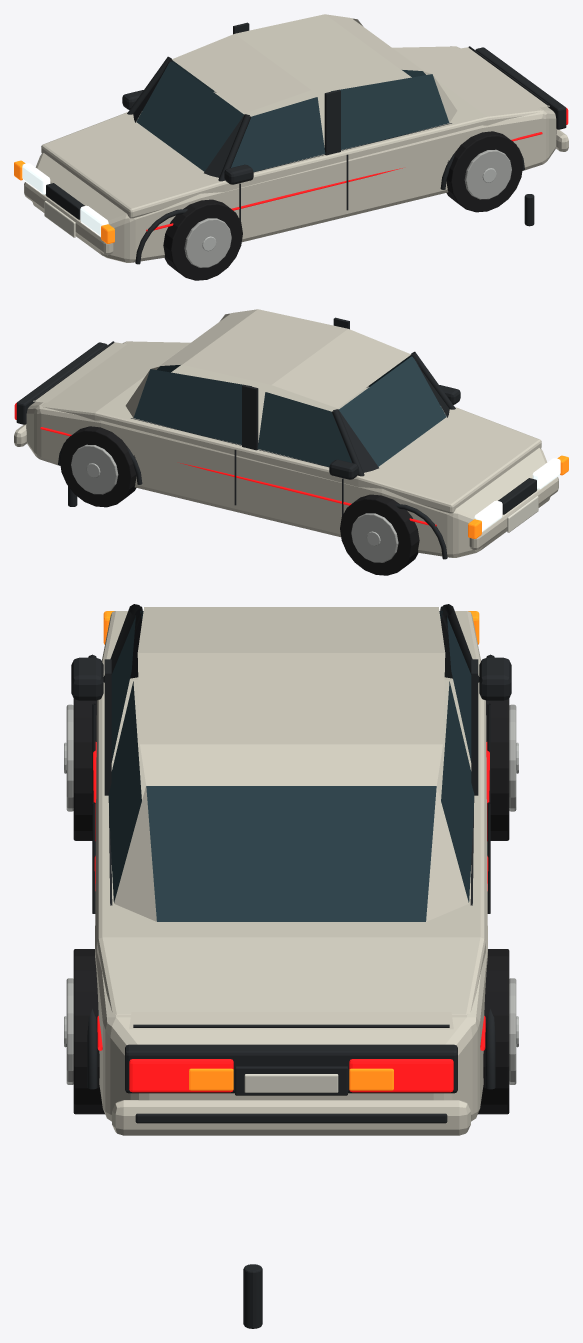
The model's file is commodore.glb.
3 renders of one model, top to bottom at view 1: azimuth 30°, elevation 25°; view 2: azimuth 150°, elevation 25°; view 3: azimuth 270°, elevation 25°, orthographic. The views are drawn at different scales.
Visible parts, largest first — view 1: commodore_belt, commodore_body, commodore_cabin, commodore_windscreen, commodore_rear_side_glass_-1, commodore_front_side_glass_-1, commodore_front_tyre_-1, commodore_rear_tyre_-1, commodore_rear_hub_-1, commodore_front_hub_-1, commodore, commodore_tail_panel (+13 smaller); view 2: commodore, commodore_belt, commodore_body, commodore_cabin, commodore_windscreen, commodore_tail_panel, commodore_front_bumper, commodore_boot_lid, commodore_front_grille, commodore_front_plate, commodore_headlamp_left, commodore_headlamp_right (+1 smaller); view 3: commodore_cabin, commodore_belt, commodore_rear_screen, commodore, commodore_body, commodore_rear_bumper, commodore_tail_panel, commodore_boot_lid, commodore_rear_side_glass_-1, commodore_rear_tyre_-1, commodore_rear_bumper_insert, commodore_c_pillar_-1 (+12 smaller).
Part boxes in pixels (box(x1,y1,x2,y2)): commodore_belt: box(41, 46, 540, 218); commodore_body: box(32, 46, 556, 262); commodore_cabin: box(172, 14, 423, 113); commodore_windscreen: box(136, 61, 243, 171); commodore_rear_side_glass_-1: box(331, 74, 449, 149); commodore_front_side_glass_-1: box(231, 97, 325, 171); commodore_front_tyre_-1: box(163, 199, 242, 280); commodore_rear_tyre_-1: box(446, 131, 523, 212); commodore_rear_hub_-1: box(464, 149, 511, 199); commodore_front_hub_-1: box(184, 218, 231, 267); commodore: box(122, 18, 363, 122); commodore_tail_panel: box(475, 47, 566, 129); commodore: box(40, 366, 447, 575); commodore_belt: box(42, 341, 541, 513); commodore_body: box(26, 341, 550, 557); commodore_cabin: box(159, 309, 410, 408); commodore_windscreen: box(339, 356, 446, 466); commodore_tail_panel: box(16, 342, 107, 424); commodore_front_bumper: box(469, 477, 558, 550); commodore_boot_lid: box(33, 342, 126, 402); commodore_front_grille: box(498, 478, 536, 514); commodore_front_plate: box(507, 496, 538, 532); commodore_headlamp_left: box(532, 458, 560, 489); commodore_headlamp_right: box(474, 500, 502, 531); commodore_cabin: box(137, 607, 445, 785); commodore_belt: box(97, 611, 485, 1014); commodore_rear_screen: box(146, 786, 436, 921); commodore: box(426, 604, 518, 1114); commodore_body: box(95, 715, 487, 1121); commodore_rear_bumper: box(112, 1100, 470, 1135); commodore_tail_panel: box(125, 1044, 457, 1093); commodore_boot_lid: box(129, 1012, 453, 1029); commodore_rear_side_glass_-1: box(108, 681, 141, 902); commodore_rear_tyre_-1: box(73, 949, 104, 1114); commodore_rear_bumper_insert: box(135, 1113, 447, 1123); commodore_c_pillar_-1: box(114, 786, 156, 921).
Bounding box in the file's own units: 5.11 × 2.23 × 2.13.
